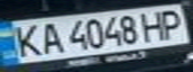0: (84, 16, 106, 50)
4: (63, 17, 87, 52), (103, 14, 124, 47)
8: (118, 11, 142, 46)
A: (33, 19, 66, 55)
H: (136, 8, 172, 42)
K: (6, 21, 45, 59)
P: (154, 7, 190, 39)
